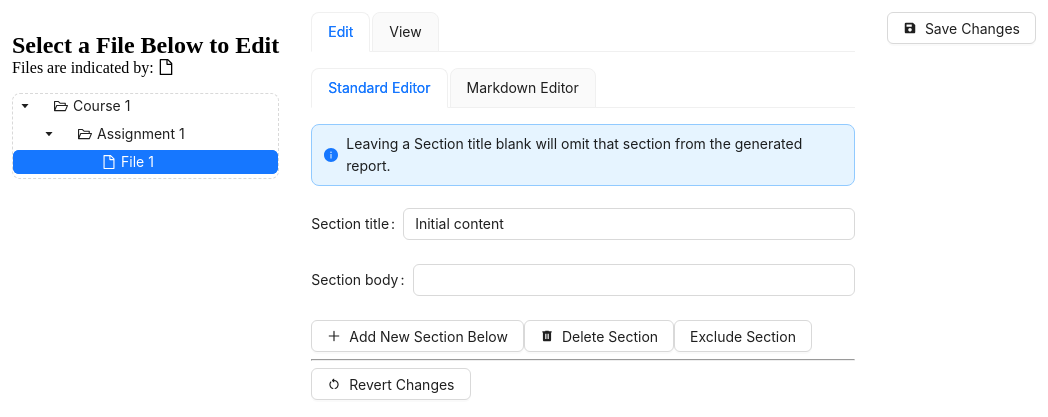
Test: MarkdownEditor › displays markdown preview correctly
Click the tab "View".
click(406, 32)  # box [389,21,422,43]
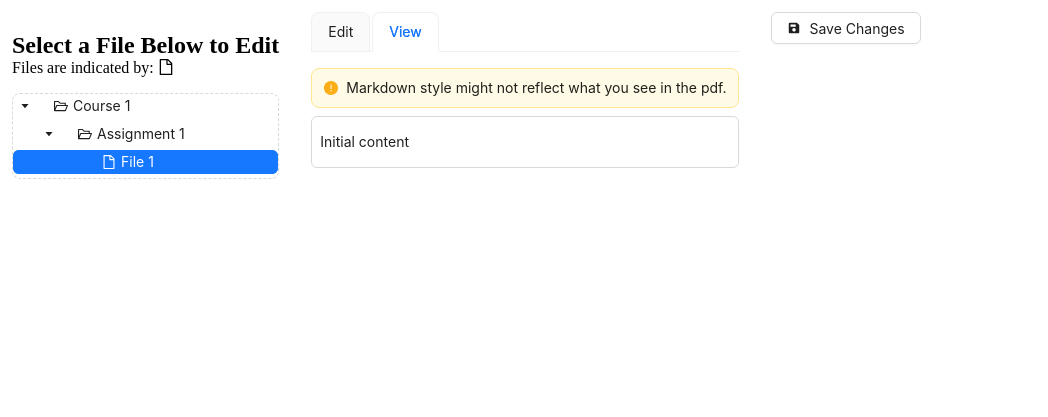
Now the text "Initial content" is shown, box [320,133,409,150]
